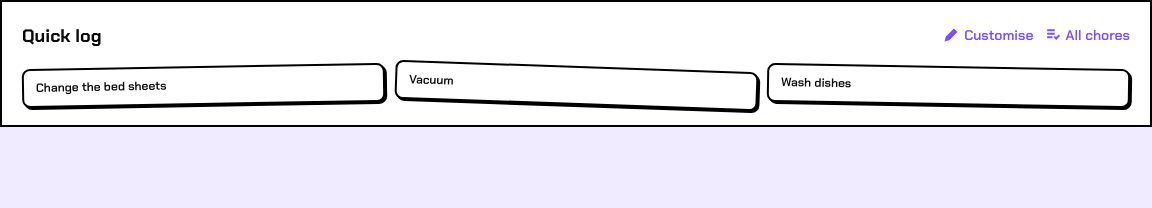
Test: the undo window › queues without sending, and keeps not sending
The image size is (1152, 208).
Step 1. Click the button "Wash dishes" → click(816, 83), box [767,63,1130,108]
Wait 1000 ms
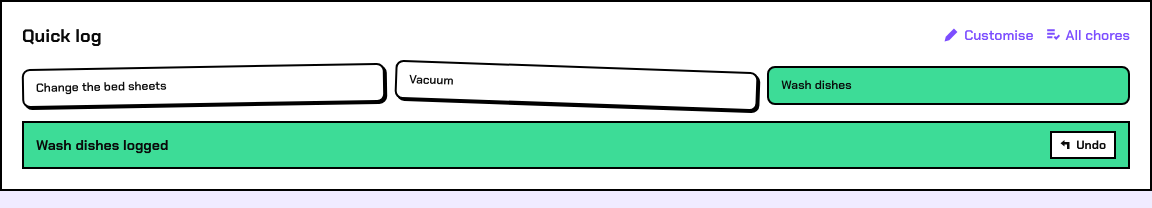
Result: the message reads "Wash dishes logged" at [36,135,168,155]
Result: the button "Undo" is shown at [1050,131,1116,159]
